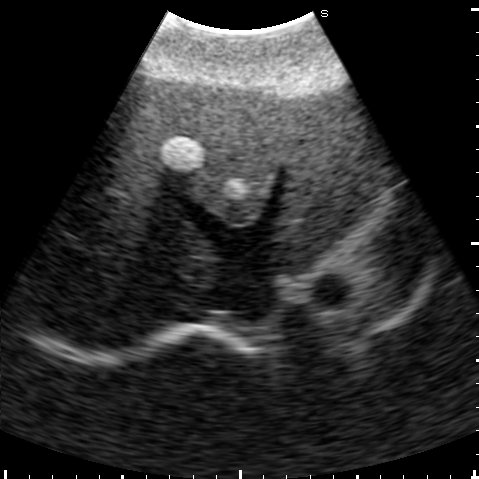S2: (271, 102, 386, 268)
S4: (118, 74, 291, 225)
S7: (21, 234, 190, 347)
S8: (50, 110, 211, 293)
Tumor: (161, 136, 203, 170), (223, 179, 247, 200)
